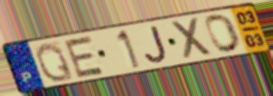1: (115, 28, 143, 70)
E: (62, 34, 107, 80)
J: (143, 24, 169, 65)
O: (205, 13, 243, 55)
Q: (34, 41, 77, 83)
X: (169, 16, 216, 62)
